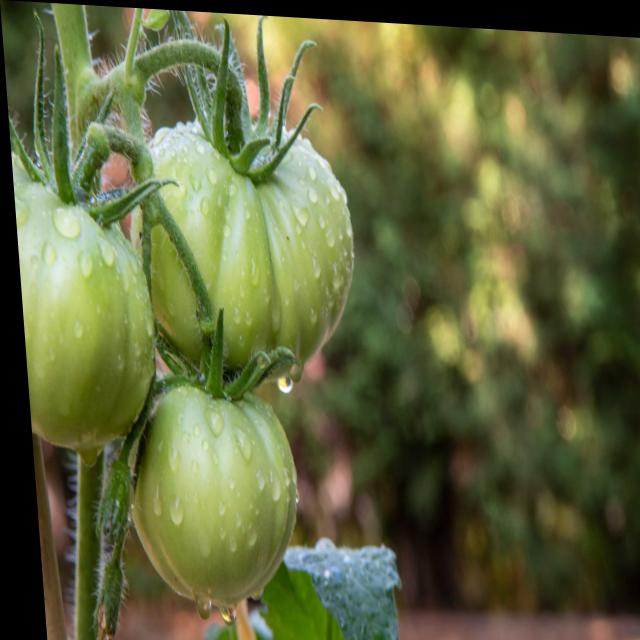yesil: (118, 70, 381, 373), (8, 144, 165, 468), (100, 361, 293, 594)
